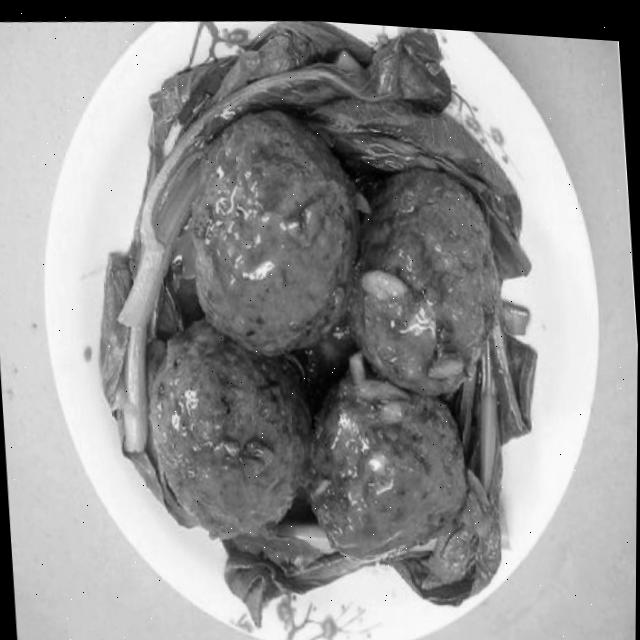猪肉菜式: (68, 9, 572, 638)
